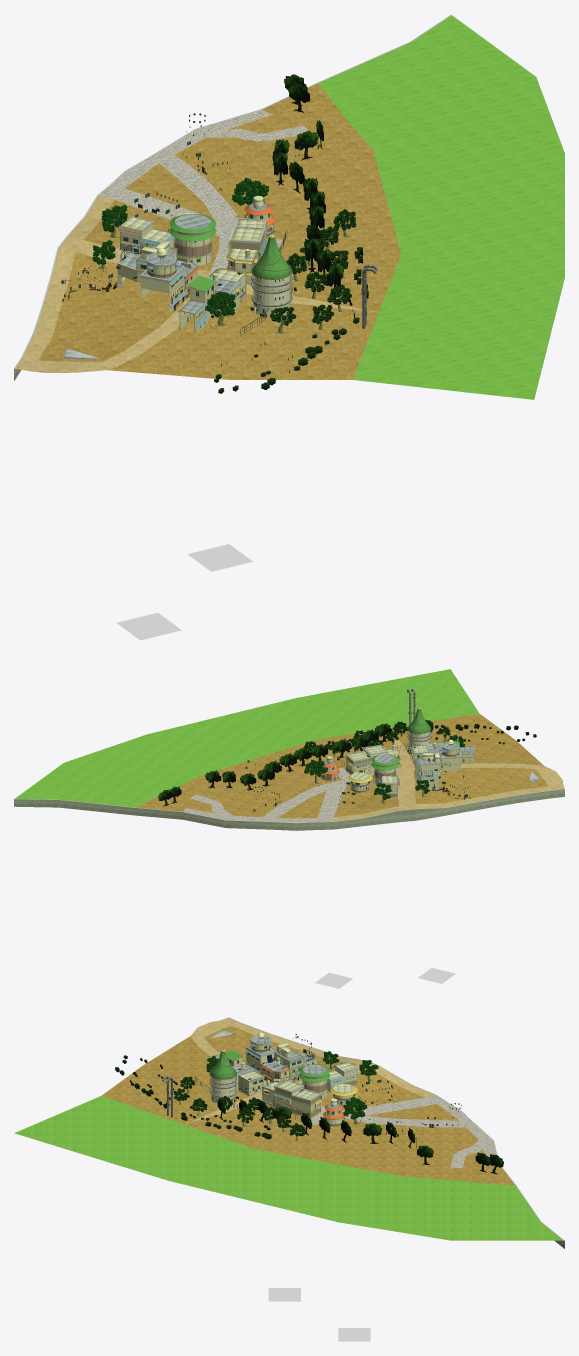
The picture shows the model from 3 angles, top to bottom: view 1: azimuth 30°, elevation 25°; view 2: azimuth 150°, elevation 25°; view 3: azimuth 270°, elevation 25°; orthographic projection. The views are drawn at different scales.
Visible parts, largest first — view 1: sa00ccflo00_001, sa00ccobj11_001, sa00uflo00_001, ki008_02_001, ha005_03_001, sa00ssobj01_001, Quad_ss, sa00uobj11_001, ha003_04_001, sa00uobj01_001, sa00ssWindows; view 2: sa00ccflo00_001, sa00ccobj11_001, ki008_02_001, sa00uflo00_001, sa00ssobj01_001, ha005_03_001, Quad_ss, sa00uobj11_001, sa00uobj01_001; view 3: sa00ccflo00_001, sa00ccobj11_001, sa00uflo00_001, ki008_02_001, sa00ssobj01_001, ha005_03_001, sa00uobj11_001, Quad_ss, ha003_04_001, sa00uobj01_001, sa00ssWindows.
Boxes of the visible parts, bbox=[...] form: sa00ccflo00_001: bbox=[14, 14, 564, 399]; sa00ccobj11_001: bbox=[116, 203, 274, 333]; sa00uflo00_001: bbox=[98, 110, 308, 272]; ki008_02_001: bbox=[272, 74, 343, 297]; ha005_03_001: bbox=[270, 209, 356, 325]; sa00ssobj01_001: bbox=[174, 212, 292, 316]; Quad_ss: bbox=[116, 544, 252, 640]; sa00uobj11_001: bbox=[123, 197, 377, 328]; ha003_04_001: bbox=[214, 242, 368, 393]; sa00uobj01_001: bbox=[169, 203, 275, 241]; sa00ssWindows: bbox=[65, 113, 319, 313]; sa00ccflo00_001: bbox=[14, 669, 564, 830]; sa00ccobj11_001: bbox=[321, 740, 474, 797]; ki008_02_001: bbox=[158, 723, 392, 806]; sa00uflo00_001: bbox=[183, 767, 401, 822]; sa00ssobj01_001: bbox=[322, 709, 431, 787]; ha005_03_001: bbox=[303, 719, 450, 753]; Quad_ss: bbox=[315, 968, 455, 988]; sa00uobj11_001: bbox=[322, 689, 472, 789]; sa00uobj01_001: bbox=[323, 754, 398, 782]; sa00ccflo00_001: bbox=[14, 1017, 564, 1248]; sa00ccobj11_001: bbox=[211, 1035, 357, 1126]; sa00uflo00_001: bbox=[311, 1095, 496, 1168]; ki008_02_001: bbox=[217, 1097, 503, 1174]; sa00ssobj01_001: bbox=[209, 1051, 355, 1115]; ha005_03_001: bbox=[173, 1076, 306, 1136]; sa00uobj11_001: bbox=[162, 1040, 355, 1119]; Quad_ss: bbox=[268, 1288, 370, 1341]; ha003_04_001: bbox=[115, 1055, 291, 1139]; sa00uobj01_001: bbox=[299, 1064, 357, 1119]; sa00ssWindows: bbox=[212, 1039, 465, 1136].
Bounding box in the file's own units: 280 × 161 × 292.
30 materials, 30 textured.
